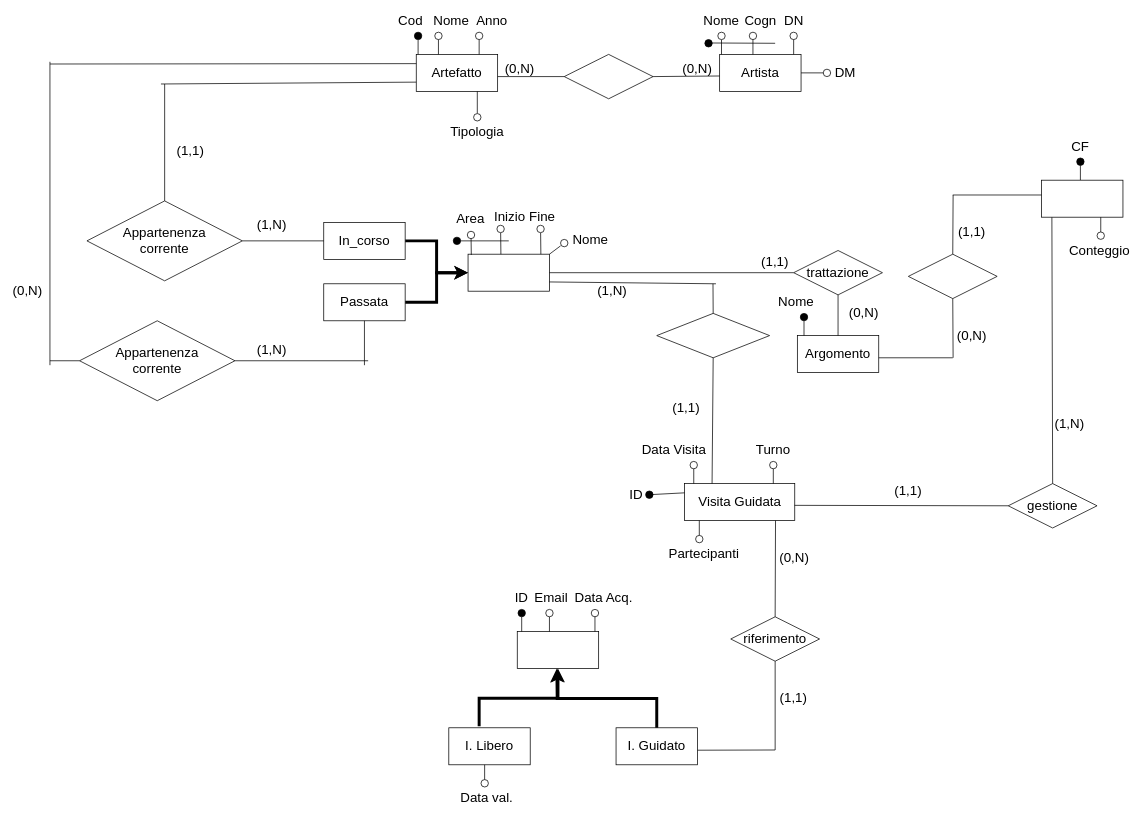
Some shapes in this 1143 by 818 pixel diagram are drawn without their labels. Each missing label, with the centre of its shape:
"Biglietto" belongs at point 558,650.
"conoscenza" belongs at point 952,276.
"creazione" belongs at point 608,76.
"Esposizione" belongs at point 508,272.
"Guida" belongs at point 1082,198.
"presentazione" belongs at point 713,335.
